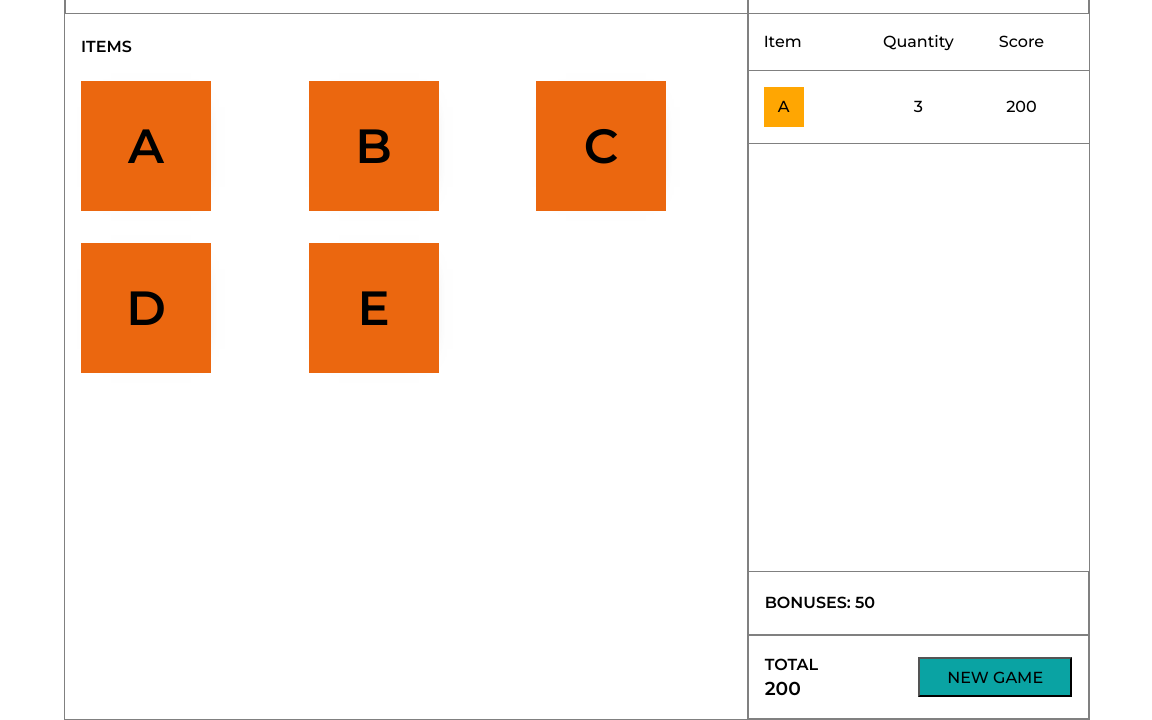
Test: empty spec › clicking new game shall reset the score
(page scrolled)
Click the button "New game" at (995, 677), box top-left (918, 657), bottom-right (1072, 697)
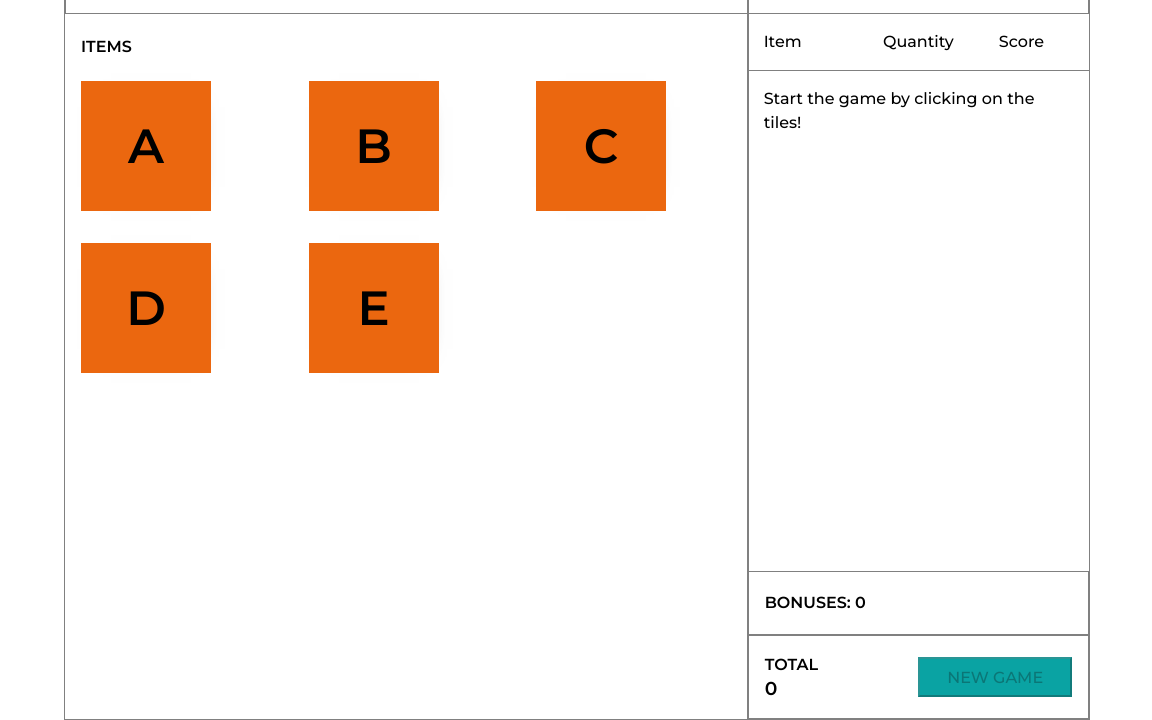
Expected: the text with test id "game-bonus" shows "0", top-left (855, 593), bottom-right (866, 612)
Now the heading with test id "game-score" reads "0", box top-left (765, 677), bottom-right (778, 700)
